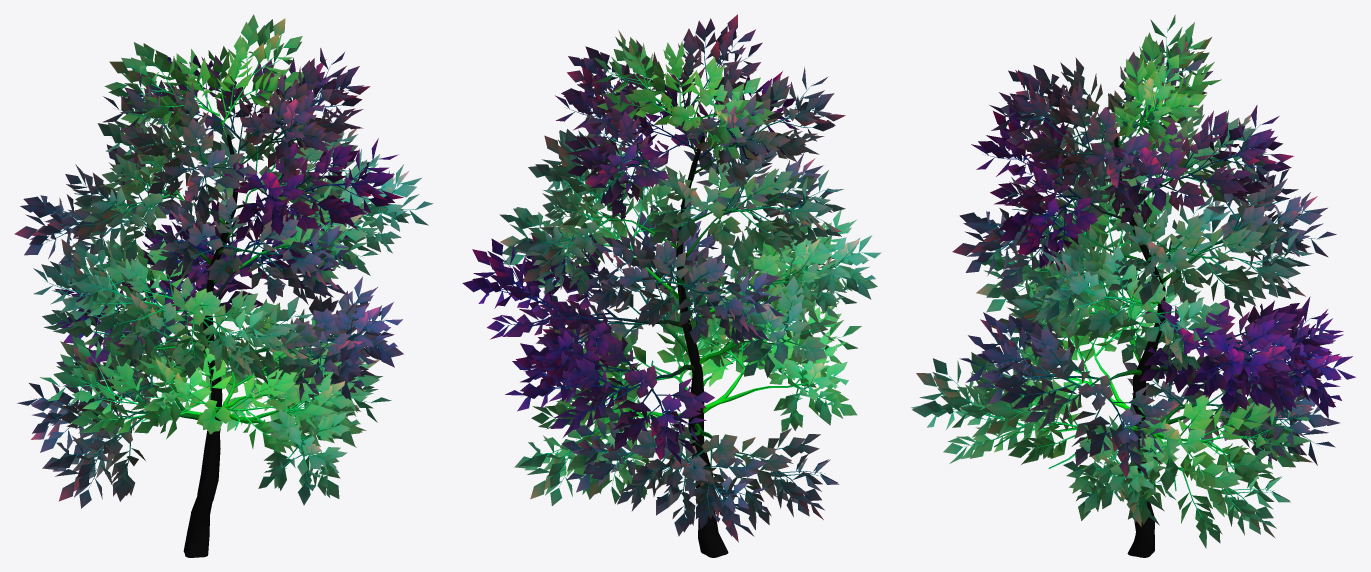
Rendered from maple.obj.
3 renders of one model, left to right at view 1: azimuth 30°, elevation 25°; view 2: azimuth 150°, elevation 25°; view 3: azimuth 270°, elevation 25°, orthographic. The views are drawn at different scales.
Visible parts, largest first — view 1: bark05, leaf maple; view 2: bark05, leaf maple; view 3: bark05, leaf maple.
Boxes of the visible parts, <box> form: bark05: <box>14,14,433,508</box>; leaf maple: <box>35,41,418,557</box>; bark05: <box>462,14,881,542</box>; leaf maple: <box>490,42,865,557</box>; bark05: <box>911,14,1355,548</box>; leaf maple: <box>938,28,1329,557</box>.
Bounding box in the file's own units: 69.05 × 92.69 × 71.95.
